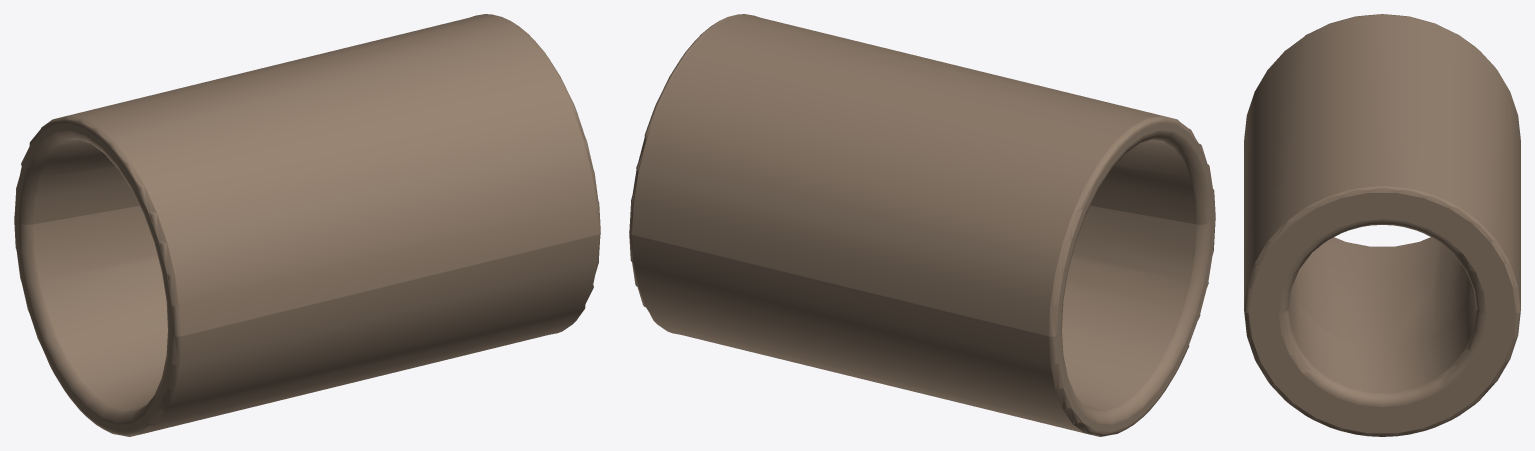
Rendered from 281132_COMPRESSION CONE TOOL.fbx.
3 views of the same model, side by side, from view 1: azimuth 30°, elevation 25°; view 2: azimuth 150°, elevation 25°; view 3: azimuth 270°, elevation 25° (orthographic). The views are drawn at different scales.
Parts seen in each view (by area): view 1: meshes[0]; view 2: meshes[0]; view 3: meshes[0].
Part boxes in pixels (x1=…): meshes[0]: x1=14, y1=14, x2=600, y2=436; meshes[0]: x1=629, y1=14, x2=1215, y2=436; meshes[0]: x1=1244, y1=14, x2=1520, y2=436.
Bounding box in the file's own units: 42 × 28 × 28.
